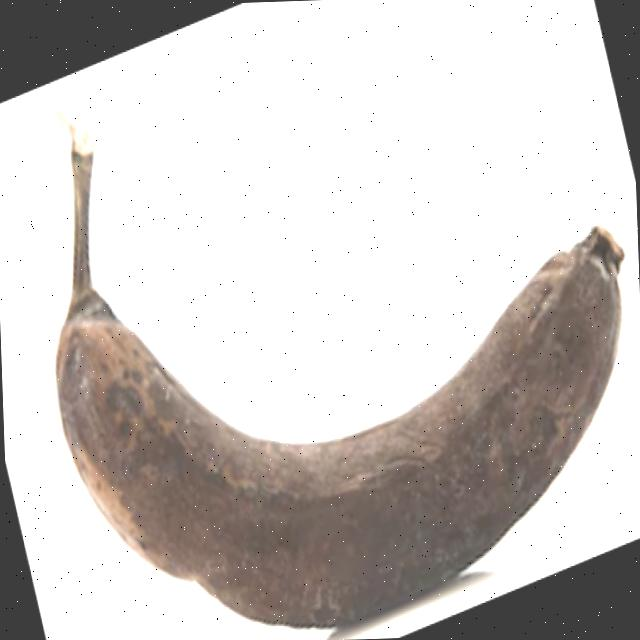Rotten: (29, 64, 640, 640)
